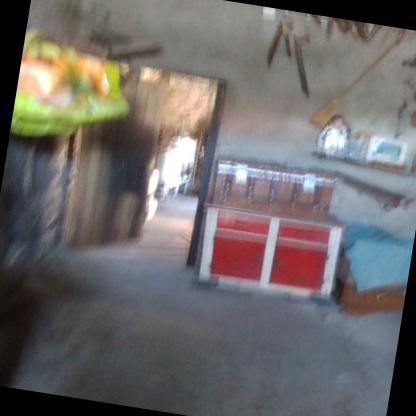semi: (52, 42, 237, 266)
